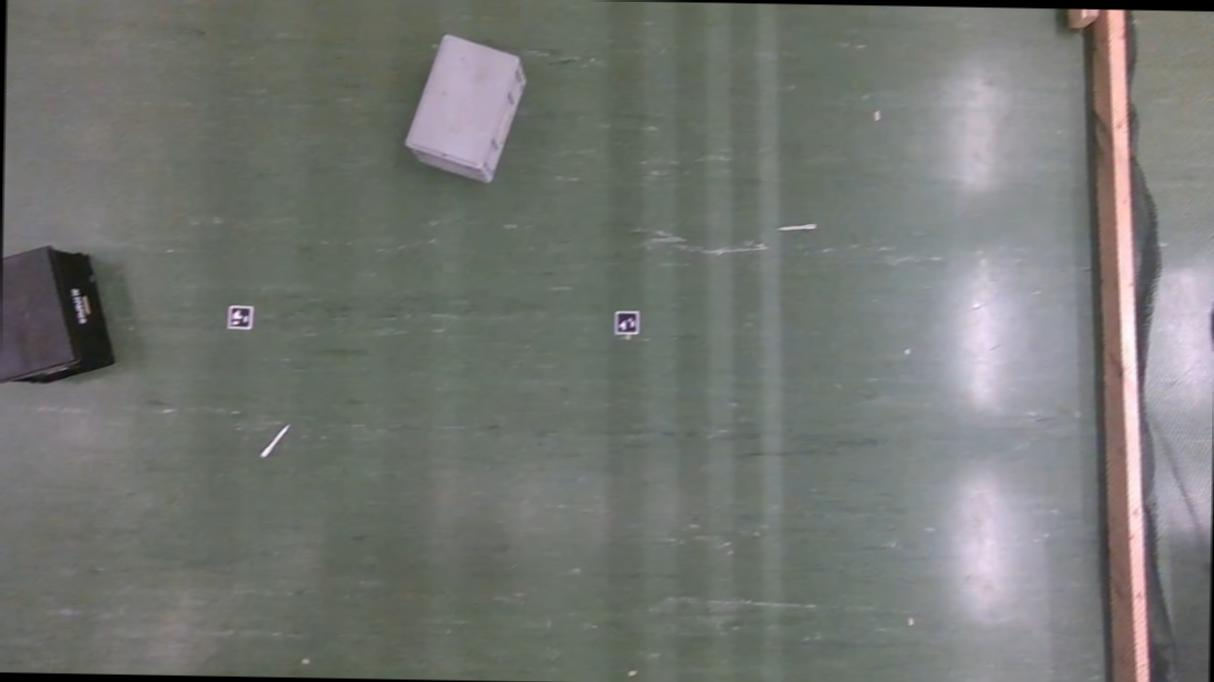probes: (261, 424, 288, 458), (772, 220, 818, 234)
rako: (402, 34, 527, 185), (0, 245, 114, 386)
